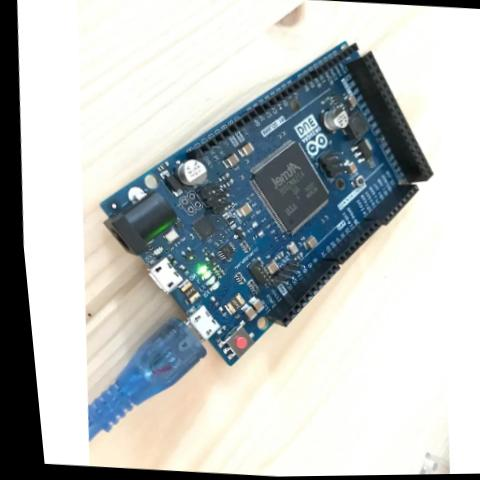Arduino-Due: (68, 16, 460, 387)
